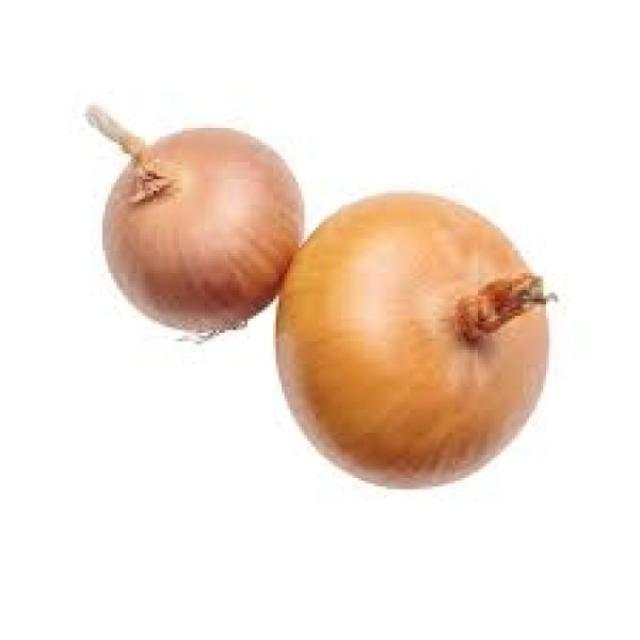Onion: (273, 192, 553, 493), (84, 105, 307, 339)
